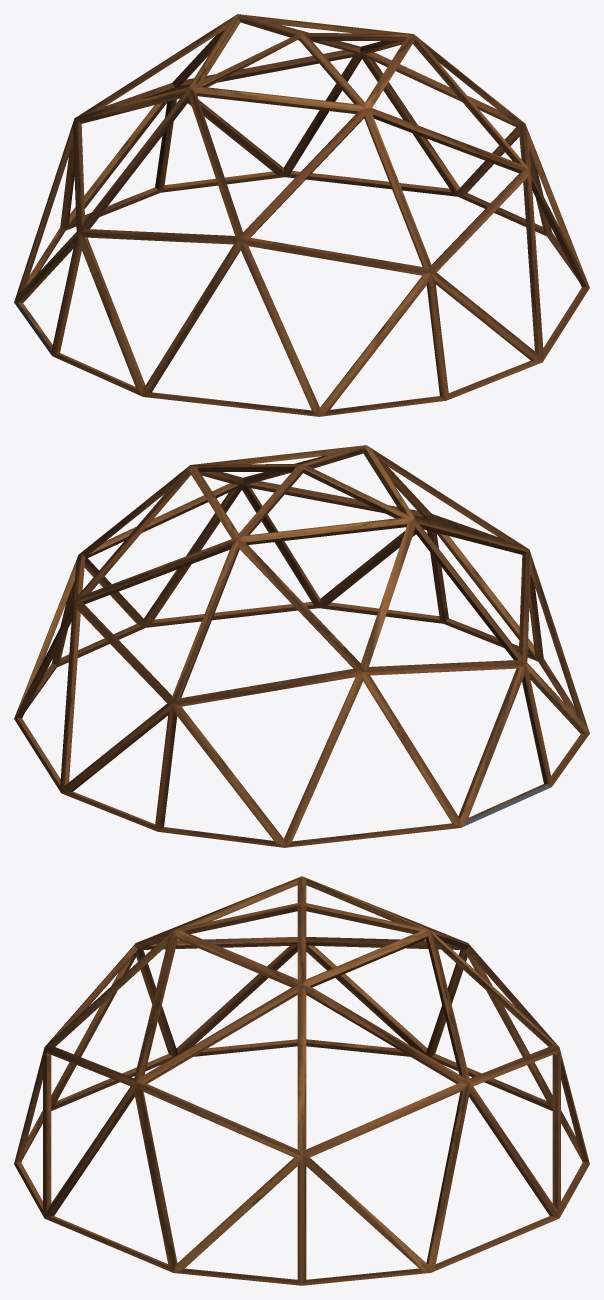
Rendered from dome_baked.fbx.
3 views of the same model, one above another, from view 1: azimuth 30°, elevation 25°; view 2: azimuth 150°, elevation 25°; view 3: azimuth 270°, elevation 25° (orthographic).
Parts seen in each view (by area): view 1: Sphere_1_1; view 2: Sphere_1_1; view 3: Sphere_1_1.
Part boxes in pixels (<box>): Sphere_1_1: <box>14,14,589,416</box>; Sphere_1_1: <box>14,445,589,847</box>; Sphere_1_1: <box>14,876,589,1285</box>.
Size of the model in its own units: 518 by 260 by 518.
Materials: 1 (1 with a texture image).
